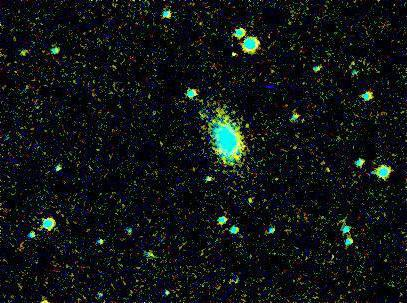star: (223, 38, 253, 68)
